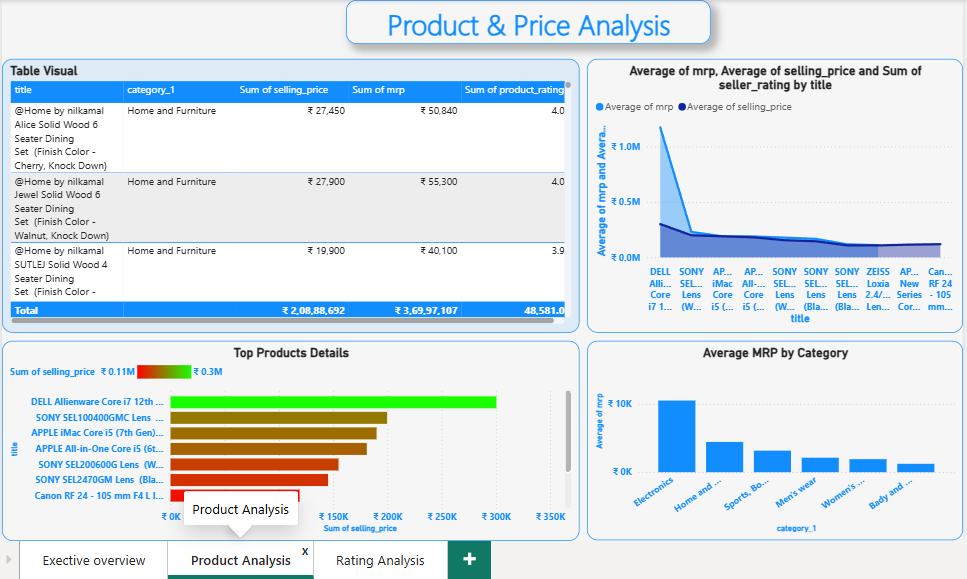

The page's visual inventory and layout, read from the dashboard file:
{"tool":"powerbi","page":{"name":"Page 2","canvas":[1280,720],"ordinal":1},"visuals":[{"type":"tableEx","title":"Table Visual","fields":{"Values":["dataset.title","dataset.category_1","Sum(dataset.selling_price)","Sum(dataset.mrp)","Sum(dataset.product_rating)"]},"box":[0,79,769.3,364.5],"z":0},{"type":"barChart","title":"Top Products Details","fields":{"Category":["dataset.title"],"Y":["Sum(dataset.selling_price)"]},"box":[0,453.5,769.3,267.1],"z":1000},{"type":"areaChart","fields":{"Category":["dataset.title"],"Y":["Avg(dataset.mrp)","Avg(dataset.selling_price)"]},"box":[779.4,79,500.6,364.5],"z":2000},{"type":"clusteredColumnChart","title":"Average MRP by Category","fields":{"Category":["dataset.category_1"],"Y":["Avg(dataset.mrp)"]},"box":[779,454,501,266],"z":3000},{"type":"textbox","title":"Product & Price Analysis","box":[458.6,0,485.5,58.8],"z":4000}]}

Visuals, with their boxes on the page's 1280x720 design canvas (x1, y1, x2, y2). These are canvas units, not pixel positions in the 967x579 screenshot, which may show the page scaled, cropped or inside an application window:
"Table Visual" tableEx: region(0, 79, 769, 444)
"Top Products Details" barChart: region(0, 454, 769, 721)
areaChart - dataset.title x Avg(dataset.mrp): region(779, 79, 1280, 444)
"Average MRP by Category" clusteredColumnChart: region(779, 454, 1280, 720)
"Product & Price Analysis" textbox: region(459, 0, 944, 59)
